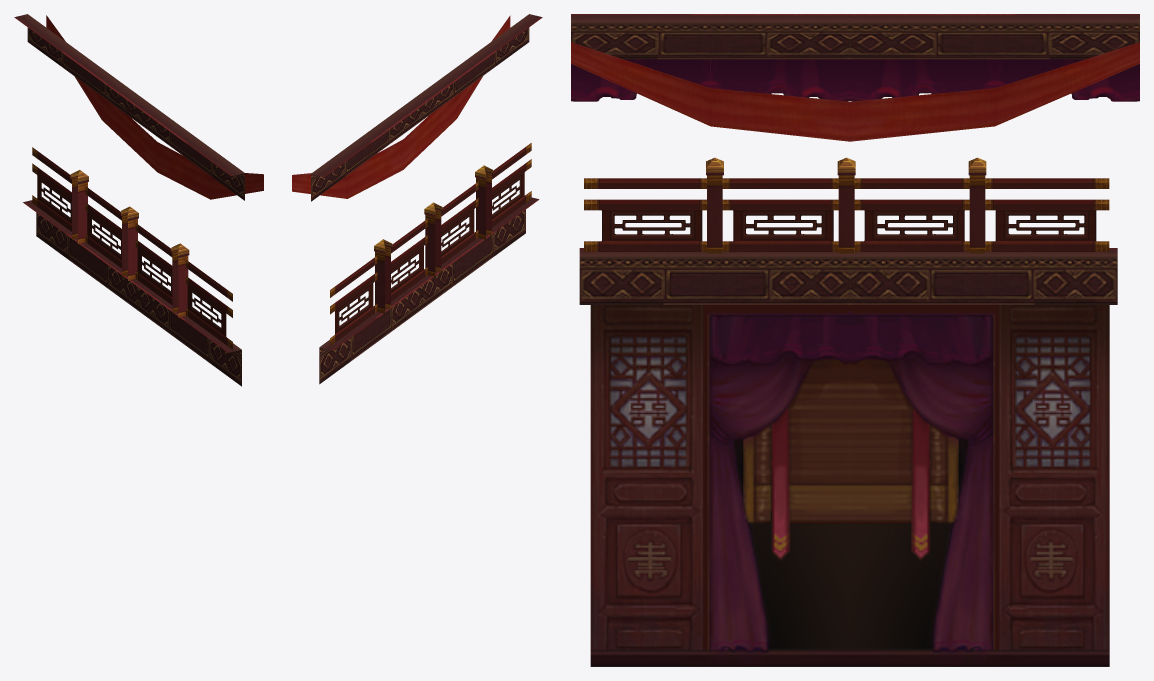
Rendered from fb_baitang_cemianqiangbi01.FBX.
3 renders of one model, left to right at view 1: azimuth 30°, elevation 25°; view 2: azimuth 150°, elevation 25°; view 3: azimuth 270°, elevation 25°, orthographic. The views are drawn at different scales.
Parts seen in each view (by area): view 1: fb_baitang_cemianqiangbi01; view 2: fb_baitang_cemianqiangbi01; view 3: fb_baitang_cemianqiangbi01.
Boxes of the visible parts, x1,y1,x2,y2 form: fb_baitang_cemianqiangbi01: (14, 14, 263, 386); fb_baitang_cemianqiangbi01: (292, 14, 542, 384); fb_baitang_cemianqiangbi01: (571, 14, 1139, 666).
Bounding box in the file's own units: 46.02 × 638 × 505.
